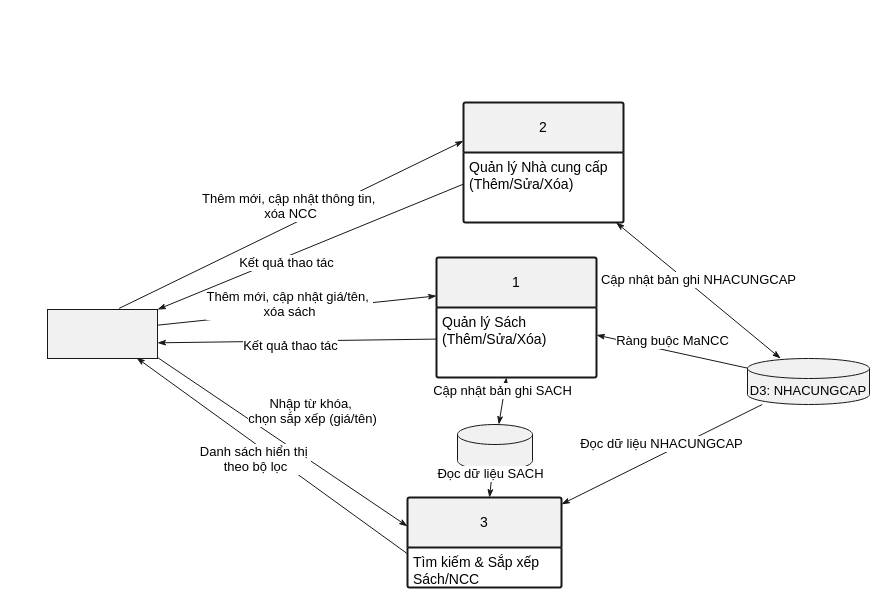
The diagram is 887 pixels wide and 605 high, and some of its shapes have lost their labels. Here are the shapes that lost their labels. From the top down, the centre of each, then its label:
At (x=102, y=333): "Quản lý kho".
At (x=494, y=447): "D2: SACH".
